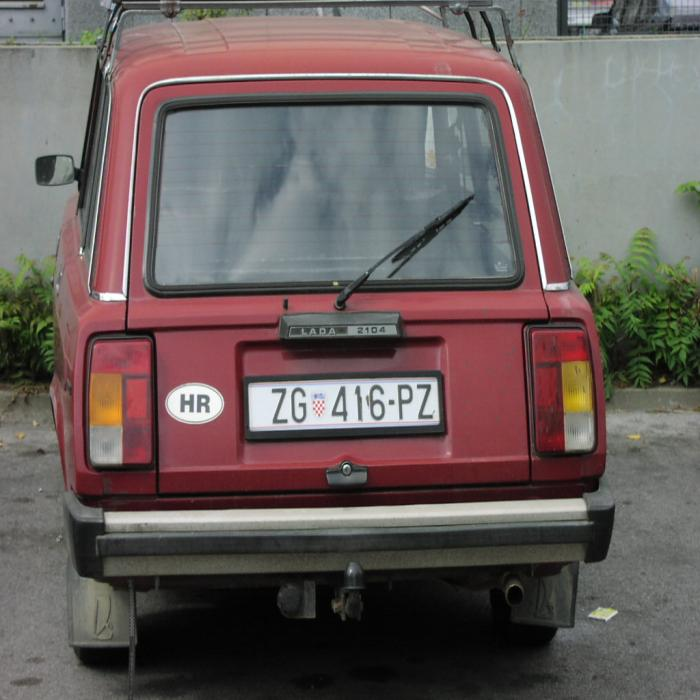number_plate: (247, 380, 439, 424)
